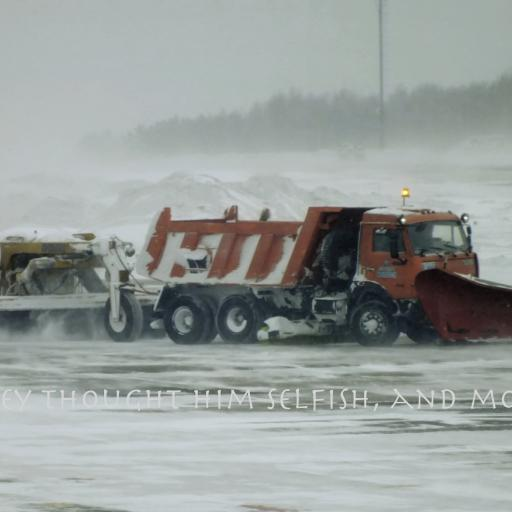Herculanum: (0, 388, 512, 412)
